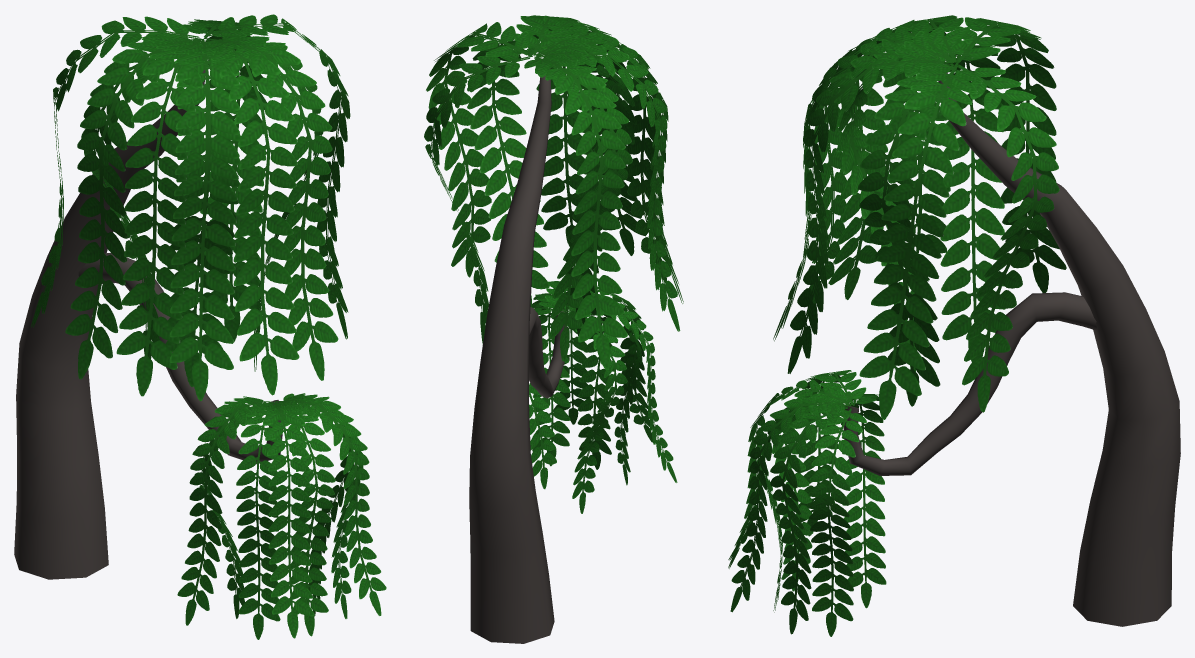
The model's file is Tree1.FBX.
3 views of the same model, side by side, from view 1: azimuth 30°, elevation 25°; view 2: azimuth 150°, elevation 25°; view 3: azimuth 270°, elevation 25° (orthographic). The views are drawn at different scales.
Parts seen in each view (by area): view 1: Tree1; view 2: Tree1; view 3: Tree1.
Boxes of the visible parts, box(x1,y1,x2,y2) form: Tree1: box(14, 14, 386, 639); Tree1: box(424, 15, 683, 643); Tree1: box(728, 15, 1180, 636).
Bounding box in the file's own units: 7.06 × 13.97 × 10.03.
1 material, 1 textured.
